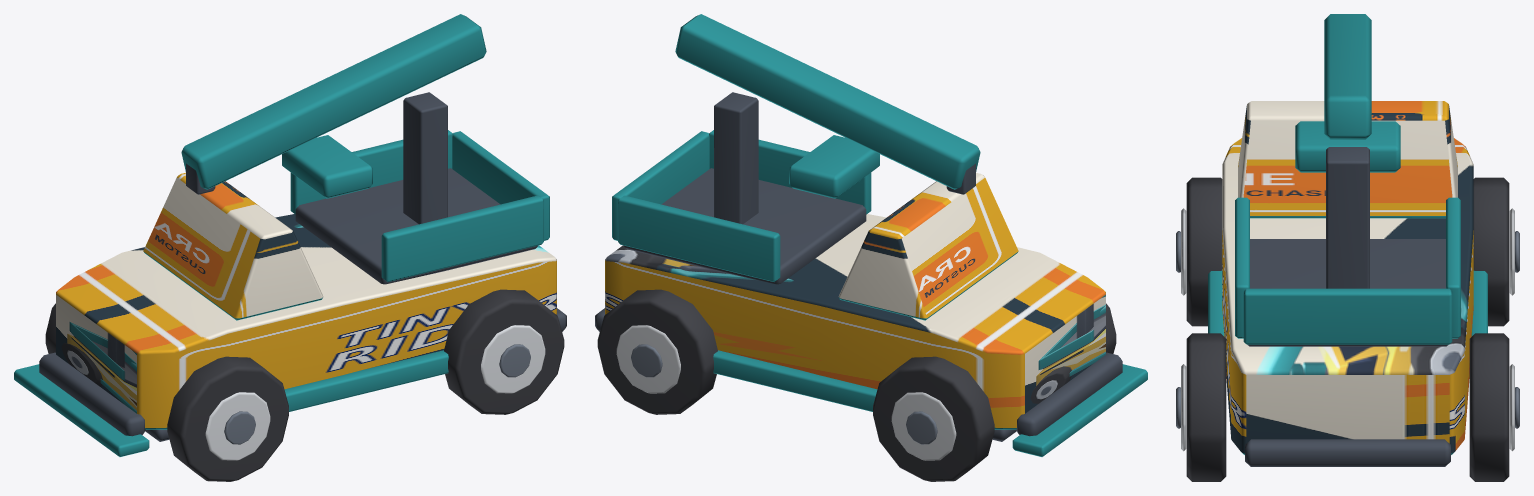
3 views of the same model, side by side, from view 1: azimuth 30°, elevation 25°; view 2: azimuth 150°, elevation 25°; view 3: azimuth 270°, elevation 25° (orthographic). The views are drawn at different scales.
Visible parts, largest first — view 1: WY-04_connected_shell, boom, WY-04_cabin, Tire, Tire.002, cargo side, cargo floor, boom pillar, custom side guard, custom equipment, cargo tail, custom chin (+6 smaller); view 2: WY-04_connected_shell, boom, WY-04_cabin, Tire.001, Tire.003, cargo side.001, cargo floor, boom pillar, custom side guard.001, custom equipment, cargo tail, custom chin (+6 smaller); view 3: WY-04_connected_shell, WY-04_cabin, cargo tail, cargo floor, boom pillar, Tire.002, Tire.003, boom, rear bumper, Tire, Tire.001, custom equipment (+8 smaller).
Part boxes in pixels (left/top/right/bottom): WY-04_connected_shell: left=56, top=214, right=556, bottom=429; boom: left=181, top=14, right=486, bottom=189; WY-04_cabin: left=143, top=172, right=323, bottom=320; Tire: left=167, top=356, right=288, bottom=481; Tire.002: left=444, top=289, right=564, bottom=414; cargo side: left=381, top=195, right=543, bottom=281; cargo floor: left=295, top=168, right=537, bottom=284; boom pillar: left=403, top=92, right=447, bottom=224; custom side guard: left=284, top=350, right=448, bottom=411; custom equipment: left=282, top=135, right=372, bottom=198; cargo tail: left=452, top=131, right=549, bottom=240; custom chin: left=14, top=364, right=149, bottom=456; WY-04_connected_shell: left=605, top=214, right=1105, bottom=429; boom: left=675, top=14, right=980, bottom=189; WY-04_cabin: left=838, top=172, right=1018, bottom=320; Tire.001: left=873, top=356, right=994, bottom=481; Tire.003: left=597, top=289, right=717, bottom=414; cargo side.001: left=618, top=195, right=780, bottom=281; cargo floor: left=624, top=168, right=866, bottom=284; boom pillar: left=714, top=92, right=758, bottom=224; custom side guard.001: left=713, top=350, right=877, bottom=411; custom equipment: left=789, top=135, right=879, bottom=198; cargo tail: left=612, top=131, right=709, bottom=240; custom chin: left=1012, top=364, right=1147, bottom=456; WY-04_connected_shell: left=1222, top=138, right=1473, bottom=454; WY-04_cabin: left=1238, top=101, right=1457, bottom=218; cargo tail: left=1243, top=288, right=1452, bottom=344; cargo floor: left=1247, top=239, right=1448, bottom=346; boom pillar: left=1326, top=147, right=1369, bottom=288; Tire.002: left=1186, top=333, right=1226, bottom=481; Tire.003: left=1469, top=333, right=1509, bottom=481; boom: left=1324, top=14, right=1371, bottom=139; rear bumper: left=1245, top=439, right=1450, bottom=466; Tire: left=1186, top=177, right=1222, bottom=326; Tire.001: left=1473, top=177, right=1509, bottom=326; custom equipment: left=1295, top=121, right=1400, bottom=172.
Size of the model in its own units: 404 by 285 by 226.
